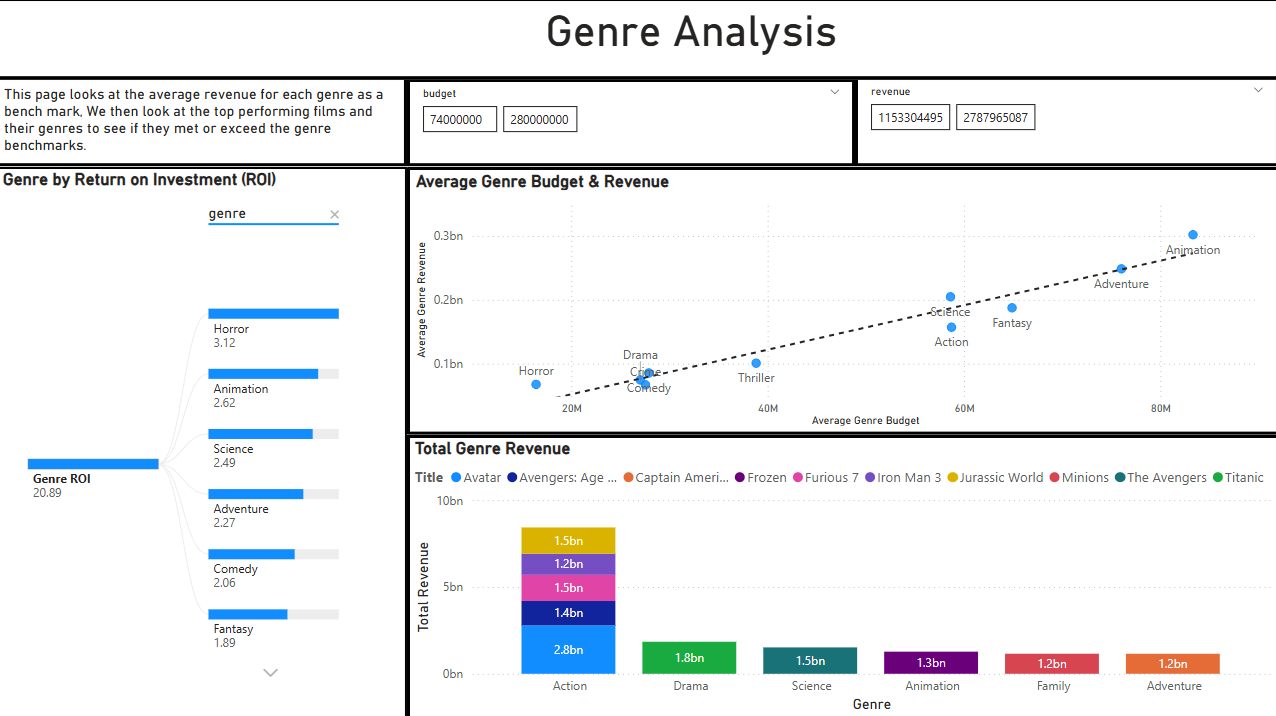

This screenshot's page, from the dashboard's own definition file:
{"tool":"powerbi","page":{"name":"Genre Analysis","canvas":[1280,720],"ordinal":3},"visuals":[{"type":"columnChart","title":"Total Genre Revenue","fields":{"Series":["Top 10 films loking at revene genre produiction.title"],"Category":["Top 10 films loking at revene genre produiction.genre"],"Y":["Sum(Top 10 films loking at revene genre produiction.revenue)"]},"box":[410,435.6,870,284.6],"z":0},{"type":"decompositionTreeVisual","title":"Genre by Return on Investment (ROI)","fields":{"ExplainBy":["Total Genre Budget and Revene.genre"],"Analyze":["Sum(Genre Budget & Revenue.ROI)"]},"box":[0,168.4,410,551.7],"z":1000},{"type":"slicer","fields":{"Values":["Top 10  most profitable actor and director pairs.budget"]},"box":[410,81.3,447.2,87.1],"z":2000},{"type":"slicer","fields":{"Values":["Top 10  most profitable actor and director pairs.revenue"]},"box":[857.2,79,422.8,89.4],"z":3000},{"type":"scatterChart","title":"Average Genre Budget & Revenue","fields":{"X":["Sum(Total Genre Budget and Revene.avg_genre_budget)"],"Y":["Sum(Total Genre Budget and Revene.avg_genre_revenue)"],"Category":["Total Genre Budget and Revene.genre"]},"box":[410,168.4,870,267.2],"z":4000},{"type":"textbox","box":[0,79,410,89.4],"z":5000},{"type":"textbox","box":[0,0,1280,81.3],"z":6000}]}

Visuals, with their boxes in screenshot pixels (x1, y1, x2, y2), scaled from the page's 1280x720 canvas onto the 1276x716 screenshot:
"Total Genre Revenue" columnChart: 409/433/1275/715
"Genre by Return on Investment (ROI)" decompositionTreeVisual: 0/167/409/715
slicer - Top 10  most profitable actor and director pairs.budget: 409/81/855/167
slicer - Top 10  most profitable actor and director pairs.revenue: 855/79/1275/167
"Average Genre Budget & Revenue" scatterChart: 409/167/1275/433
textbox: 0/79/409/167
textbox: 0/0/1275/81
